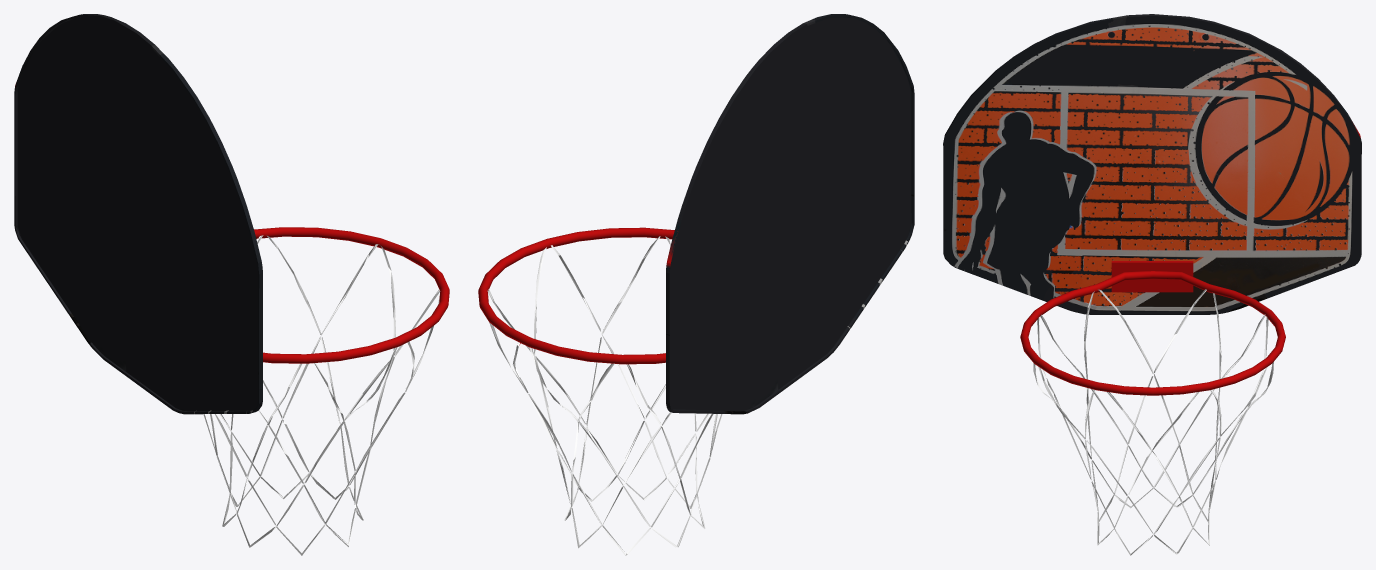
The model's file is Basket.FBX.
3 views of the same model, side by side, from view 1: azimuth 30°, elevation 25°; view 2: azimuth 150°, elevation 25°; view 3: azimuth 270°, elevation 25° (orthographic). The views are drawn at different scales.
Parts seen in each view (by area): view 1: Basket; view 2: Basket; view 3: Basket.
Part boxes in pixels (x1,y1,x2,y2): Basket: (14,14,449,555); Basket: (478,14,914,555); Basket: (943,14,1361,555).
Size of the model in its own units: 20.32 by 29.41 by 35.4.
Materials: 1 (1 with a texture image).
